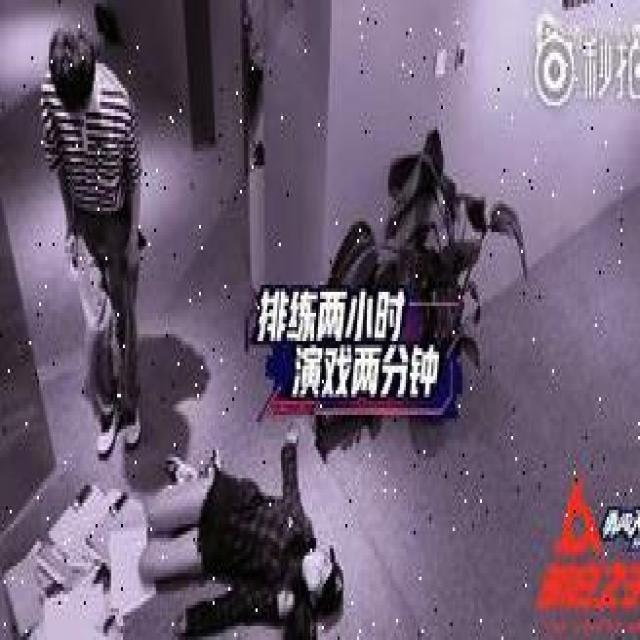fall: (142, 446, 342, 636)
